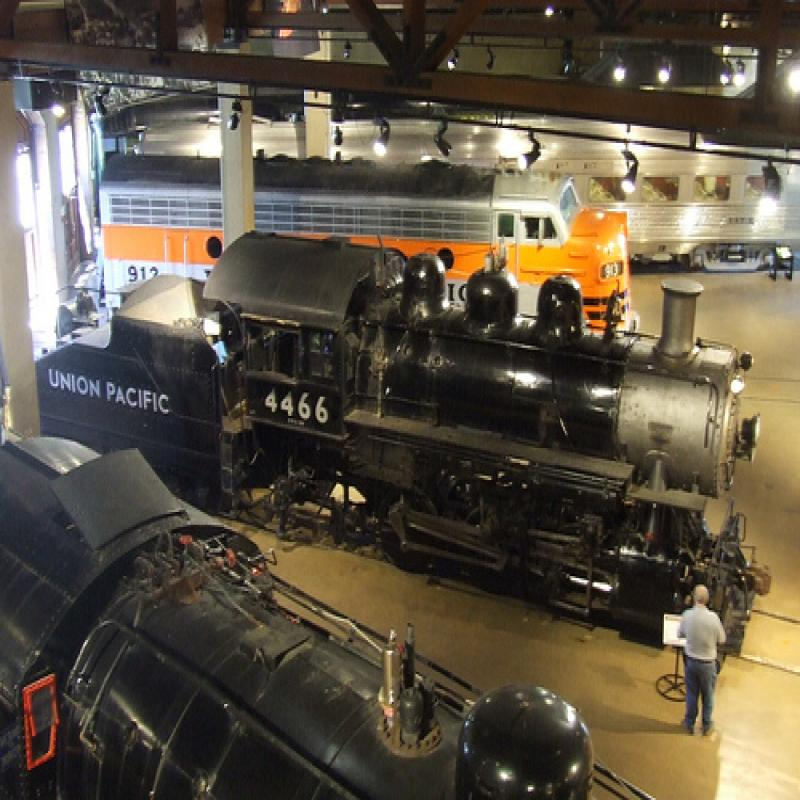train: (40, 238, 768, 664), (3, 423, 656, 800), (99, 159, 644, 340)
